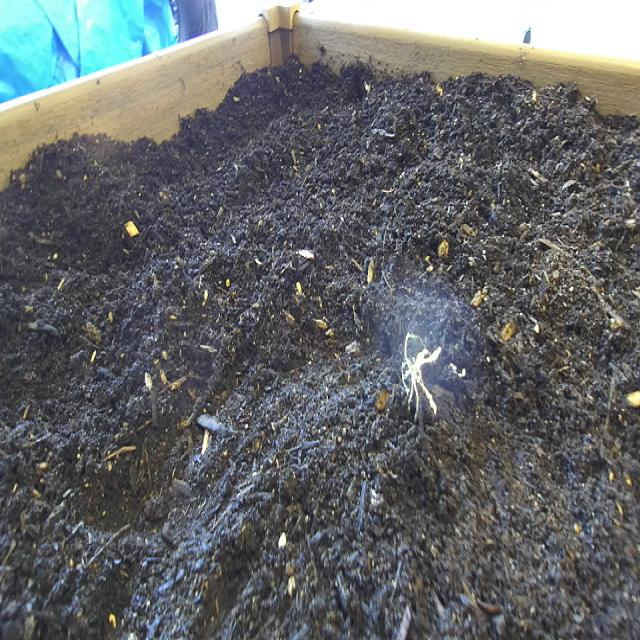Unhealthy: (394, 319, 468, 432)
